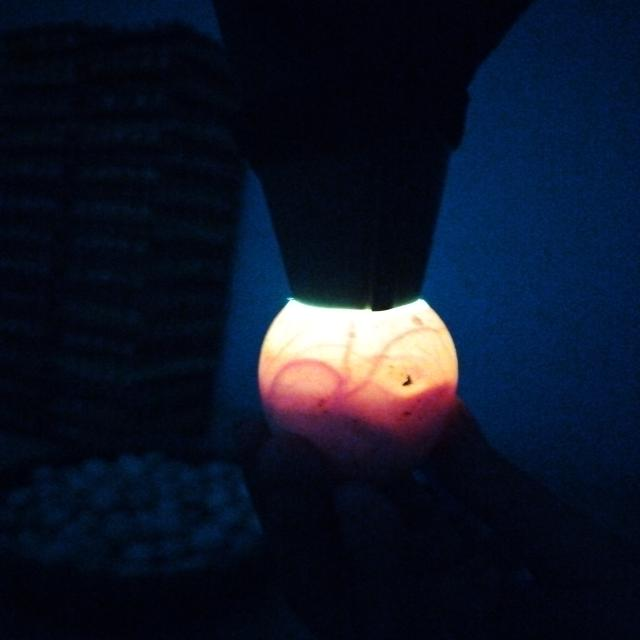Embriao: (265, 407, 456, 483)
